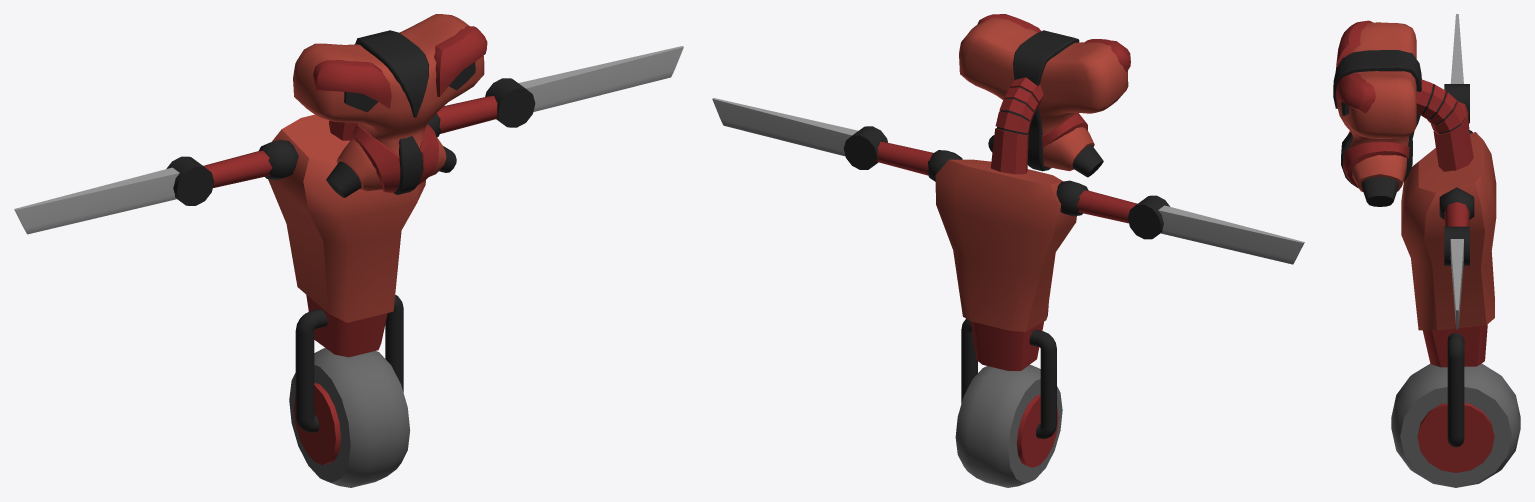
File: Planet4_Red.fbx
The picture shows the model from 3 angles, left to right: view 1: azimuth 30°, elevation 25°; view 2: azimuth 150°, elevation 25°; view 3: azimuth 270°, elevation 25°; orthographic projection. The views are drawn at different scales.
Visible parts, largest first — view 1: Planet4_Red; view 2: Planet4_Red; view 3: Planet4_Red.
Boxes of the visible parts, <box> form: Planet4_Red: <box>14,14,683,487</box>; Planet4_Red: <box>712,14,1304,487</box>; Planet4_Red: <box>1333,14,1520,487</box>.
Size of the model in its own units: 5.74 by 3.88 by 1.53.
